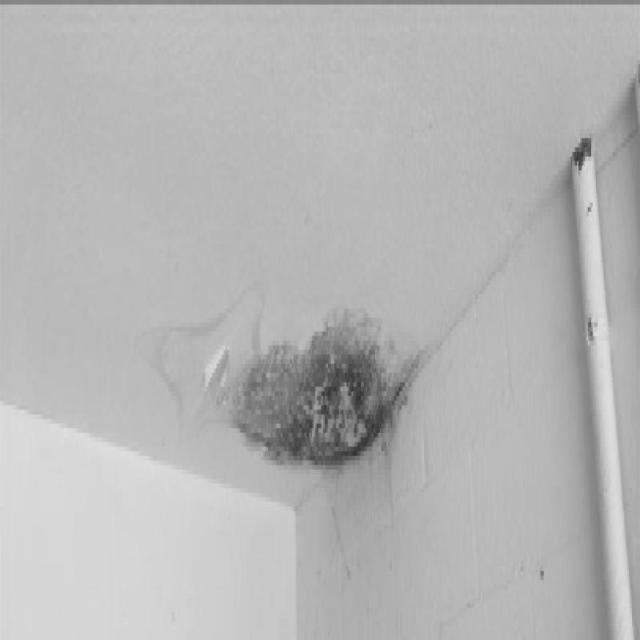stain marks: (154, 308, 421, 470)
